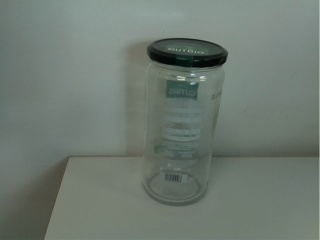pote cristal: (138, 34, 231, 211)
